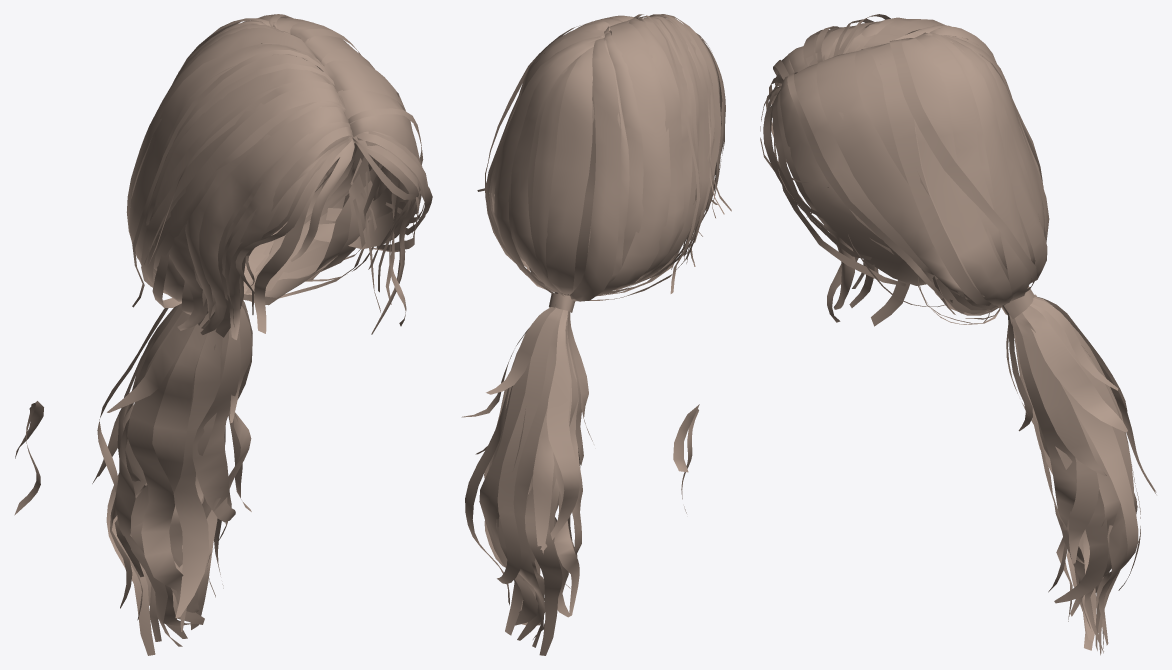
File: female_hair_05_lod0.glb
3 views of the same model, side by side, from view 1: azimuth 30°, elevation 25°; view 2: azimuth 150°, elevation 25°; view 3: azimuth 270°, elevation 25° (orthographic). The views are drawn at different scales.
Visible parts, largest first — view 1: female-hair-05; view 2: female-hair-05; view 3: female-hair-05.
Boxes of the visible parts, box(x1,y1,x2,y2) form: female-hair-05: box(14, 14, 432, 655); female-hair-05: box(461, 14, 731, 655); female-hair-05: box(760, 14, 1156, 655).
Size of the model in its own units: 0.278 by 0.5637 by 0.3211.
